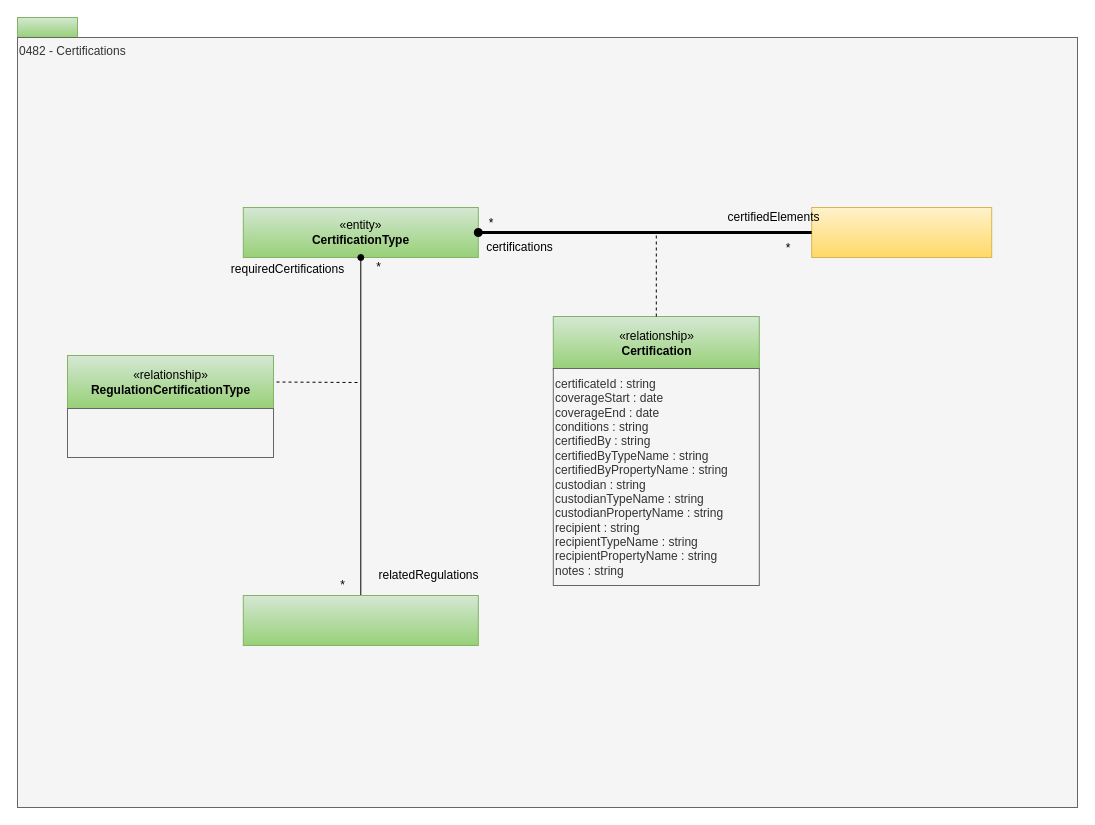
Image size: 1095x825. Some labels were removed from this diagram. Here are the shapes that lost their labels. From the top down, the centre of each, then its label:
At point 901,232: "«entity» Referenceable".
At point 170,433: "label : string description : string".
At point 360,620: "«entity» Regulation".
